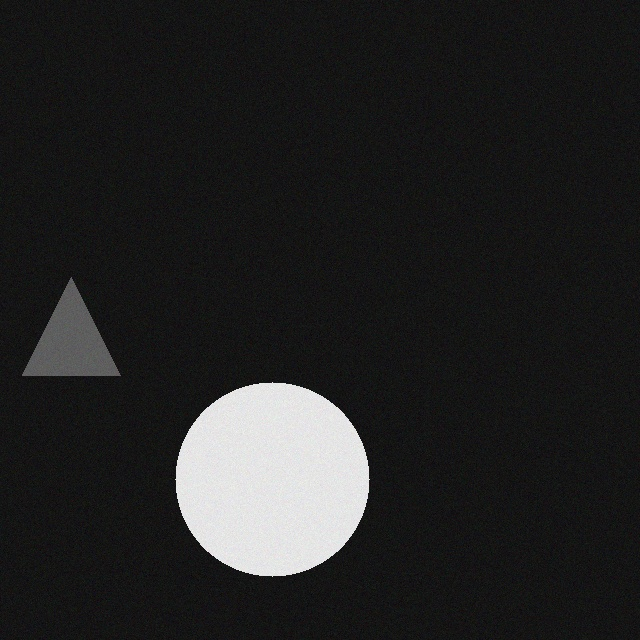circle: (183, 392, 377, 586)
triangle: (30, 287, 128, 385)
